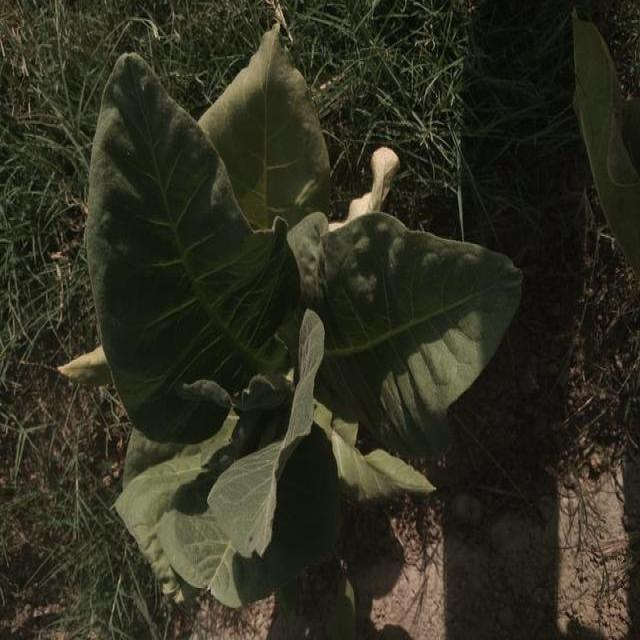crop: (79, 29, 520, 608), (571, 9, 640, 272)
